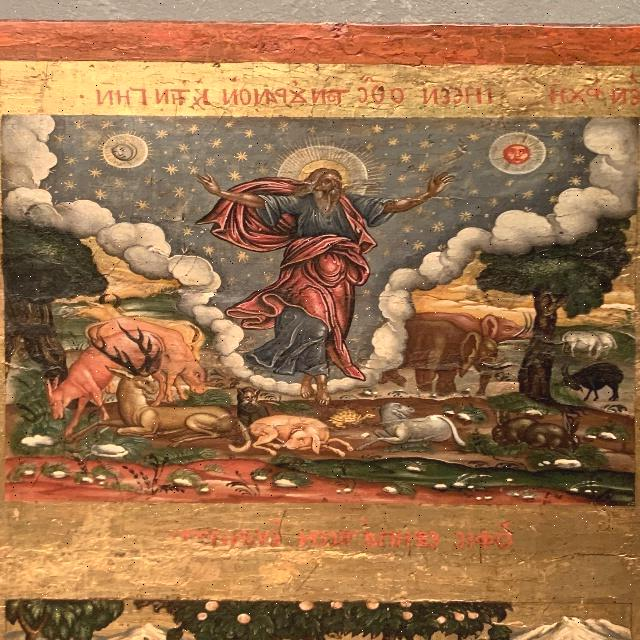aura: (278, 145, 377, 203)
cloud: (569, 117, 629, 225), (104, 223, 204, 285), (9, 184, 100, 233), (454, 210, 542, 259), (6, 117, 60, 188), (185, 296, 247, 348), (390, 257, 442, 298), (368, 327, 390, 383), (259, 373, 293, 396), (219, 354, 254, 374), (334, 375, 359, 389)
dog: (247, 409, 359, 460), (374, 403, 462, 452)
elephant: (392, 319, 487, 395), (422, 309, 534, 338)
father: (196, 131, 461, 408)
moon: (101, 129, 148, 168)
rabbit: (528, 417, 582, 448), (487, 414, 539, 443)
sun: (487, 129, 547, 177)
